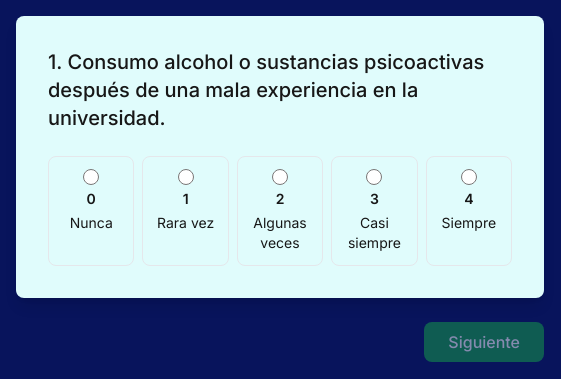
Test: TestForm › no deja avanzar sin responder la pregunta
The width and height of the screenshot is (561, 379).
Expected: the button "Siguiente" is disabled, [424,322,544,362]
Step 1. Click the radio button labelled "3 Casi siempre" → {"x": 374, "y": 177}, box [366,169,382,185]
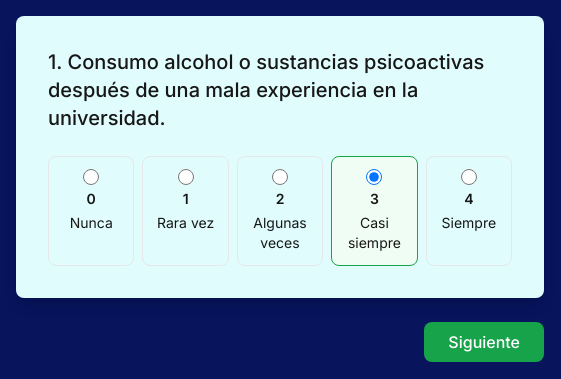
Result: the button "Siguiente" is enabled at [424,322,544,362]
